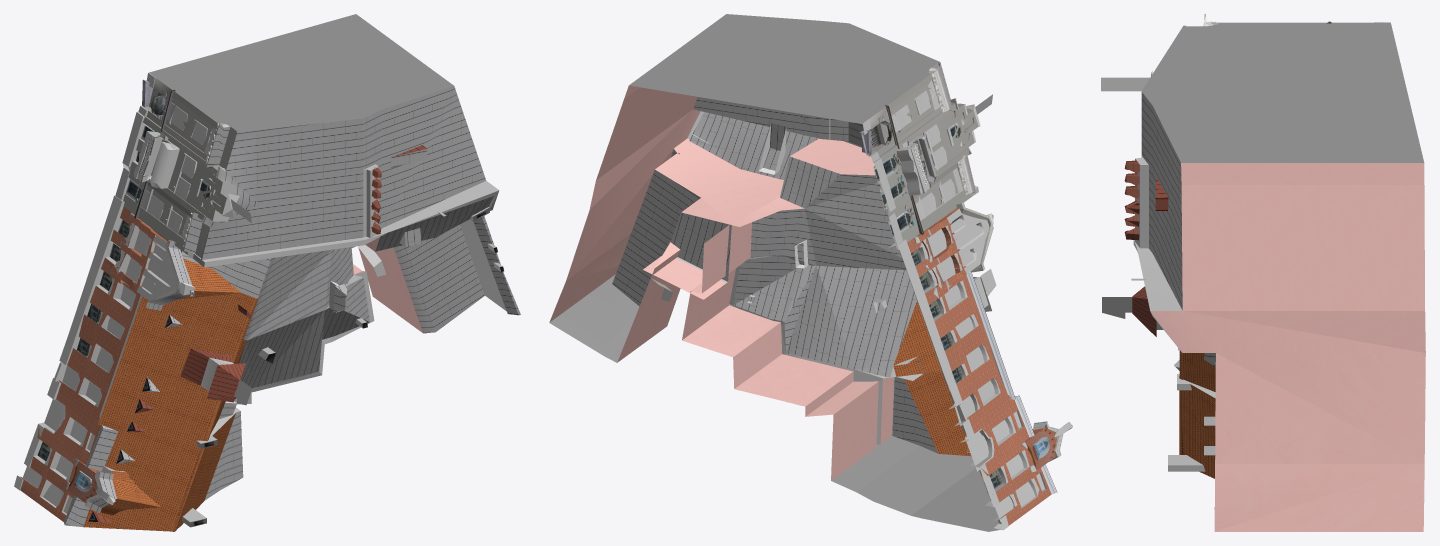
File: Rataskaevu_3-origo.obj
3 views of the same model, side by side, from view 1: azimuth 30°, elevation 25°; view 2: azimuth 150°, elevation 25°; view 3: azimuth 270°, elevation 25° (orthographic). The views are drawn at different scales.
Parts seen in each view (by area): view 1: Rataskaevu_3; view 2: Rataskaevu_3; view 3: Rataskaevu_3.
Boxes of the visible parts, x1,y1,x2,y2 form: Rataskaevu_3: [14, 14, 520, 531]; Rataskaevu_3: [549, 14, 1072, 531]; Rataskaevu_3: [1101, 14, 1425, 531].
Bounding box in the file's own units: 44.69 × 37.5 × 22.95.
